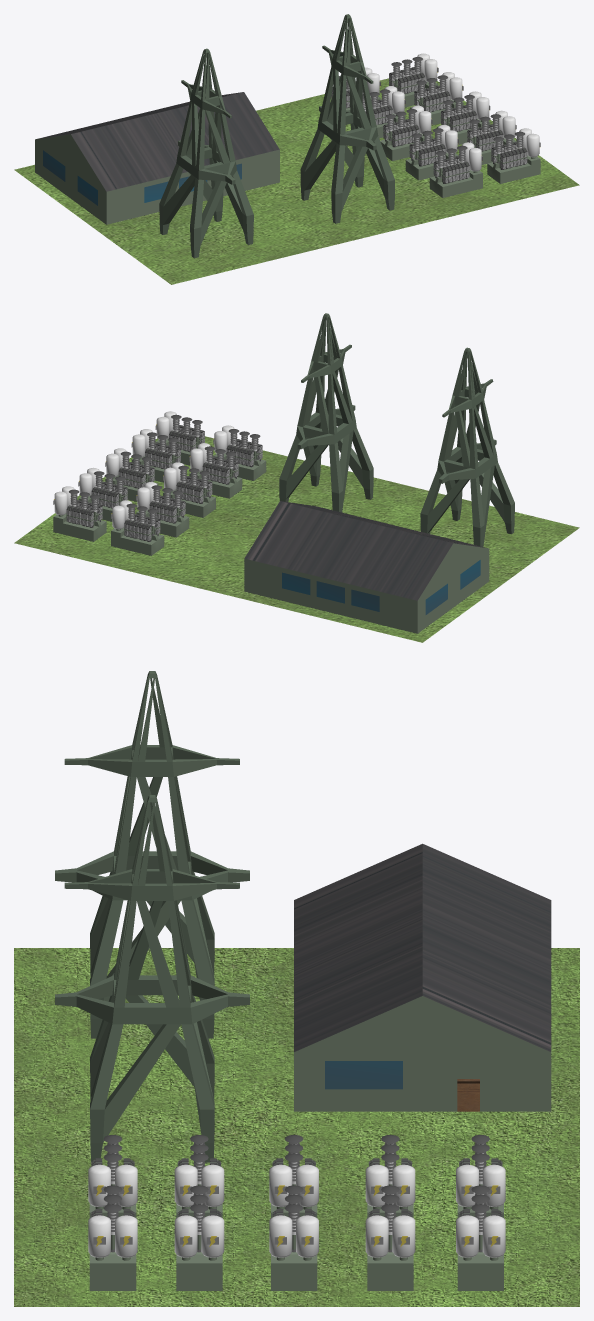
The model's file is Umspannwerk.fbx.
The picture shows the model from 3 angles, top to bottom: view 1: azimuth 30°, elevation 25°; view 2: azimuth 150°, elevation 25°; view 3: azimuth 270°, elevation 25°; orthographic projection. The views are drawn at different scales.
Visible parts, largest first — view 1: Ground_Powerplant, House, Strommast, Strommast.001, Generator, Generator.005, Generator.007, Generator.006, Generator.003, Generator.002, Generator.004, Generator.001 (+2 smaller); view 2: Ground_Powerplant, House, Strommast, Strommast.001, Generator.004, Generator.009, Generator.007, Generator.006, Generator.008, Generator.005, Generator.002, Generator.001 (+2 smaller); view 3: Ground_Powerplant, House, Strommast, Strommast.001, Generator, Generator.001, Generator.003, Generator.002, Generator.004, Generator.008, Generator.005, Generator.006 (+2 smaller).
Part boxes in pixels (box(x1,y1,x2,y2)): Ground_Powerplant: box(14, 78, 579, 284); House: box(35, 92, 279, 224); Strommast: box(300, 14, 394, 223); Strommast.001: box(159, 48, 253, 258); Generator: box(487, 128, 540, 183); Generator.005: box(429, 142, 482, 197); Generator.007: box(380, 105, 432, 161); Generator.006: box(405, 125, 458, 180); Generator.003: box(410, 72, 463, 125); Generator.002: box(437, 91, 490, 145); Generator.004: box(389, 53, 438, 107); Generator.001: box(467, 110, 516, 164); Ground_Powerplant: box(14, 436, 579, 642); House: box(244, 501, 489, 633); Strommast: box(279, 313, 373, 512); Strommast.001: box(420, 347, 514, 546); Generator.004: box(53, 486, 106, 541); Generator.009: box(111, 500, 164, 555); Generator.007: box(163, 462, 215, 517); Generator.006: box(189, 443, 242, 498); Generator.008: box(136, 482, 189, 537); Generator.005: box(213, 425, 266, 480); Generator.002: box(105, 448, 158, 501); Generator.001: box(131, 429, 184, 482); Ground_Powerplant: box(14, 948, 579, 1306); House: box(294, 843, 551, 1111); Strommast: box(55, 795, 249, 1162); Strommast.001: box(55, 671, 249, 1038); Generator: box(88, 1185, 137, 1290); Generator.001: box(174, 1185, 224, 1290); Generator.003: box(365, 1185, 415, 1290); Generator.002: box(269, 1185, 318, 1290); Generator.004: box(456, 1185, 505, 1290); Generator.008: box(365, 1135, 415, 1217); Generator.005: box(88, 1135, 137, 1217); Generator.006: box(174, 1135, 224, 1217).
Size of the model in its own units: 3000 by 1328 by 2000.
